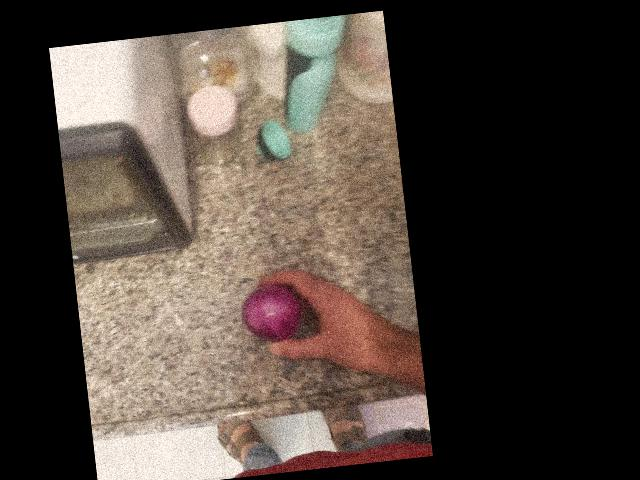onion: (86, 199, 159, 266)
